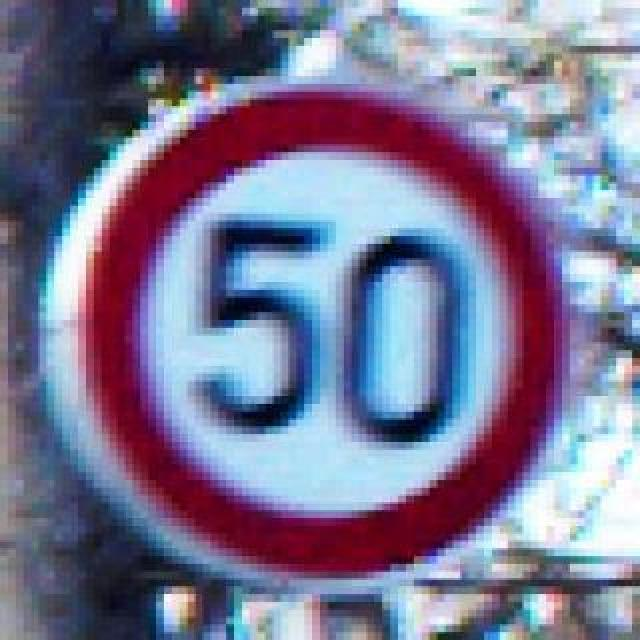50 kph: (30, 76, 570, 572)
